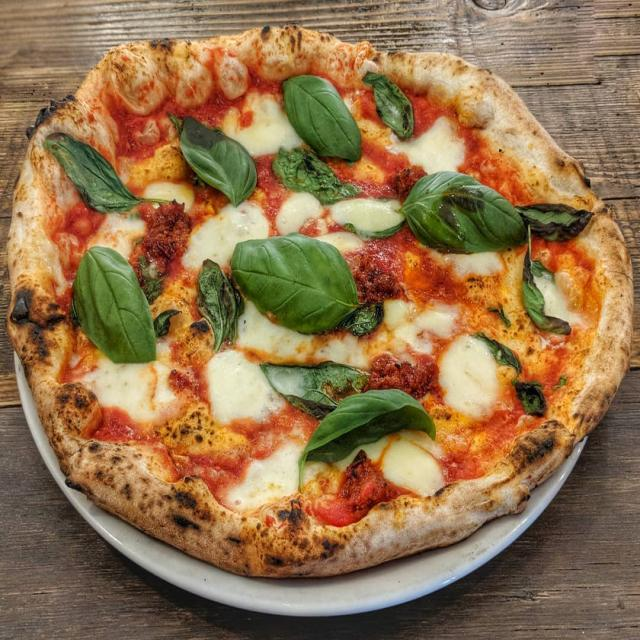basil: (229, 232, 356, 342), (301, 387, 434, 476), (72, 243, 160, 362), (43, 127, 158, 213), (394, 179, 524, 250), (167, 113, 257, 203), (278, 72, 360, 162), (258, 362, 362, 418), (522, 229, 568, 337), (194, 260, 244, 344), (273, 155, 360, 200), (367, 69, 417, 141), (522, 204, 596, 240), (481, 329, 523, 367), (343, 302, 389, 336), (516, 383, 548, 416), (138, 261, 164, 299), (152, 310, 179, 338)
pizza: (0, 21, 636, 583)
